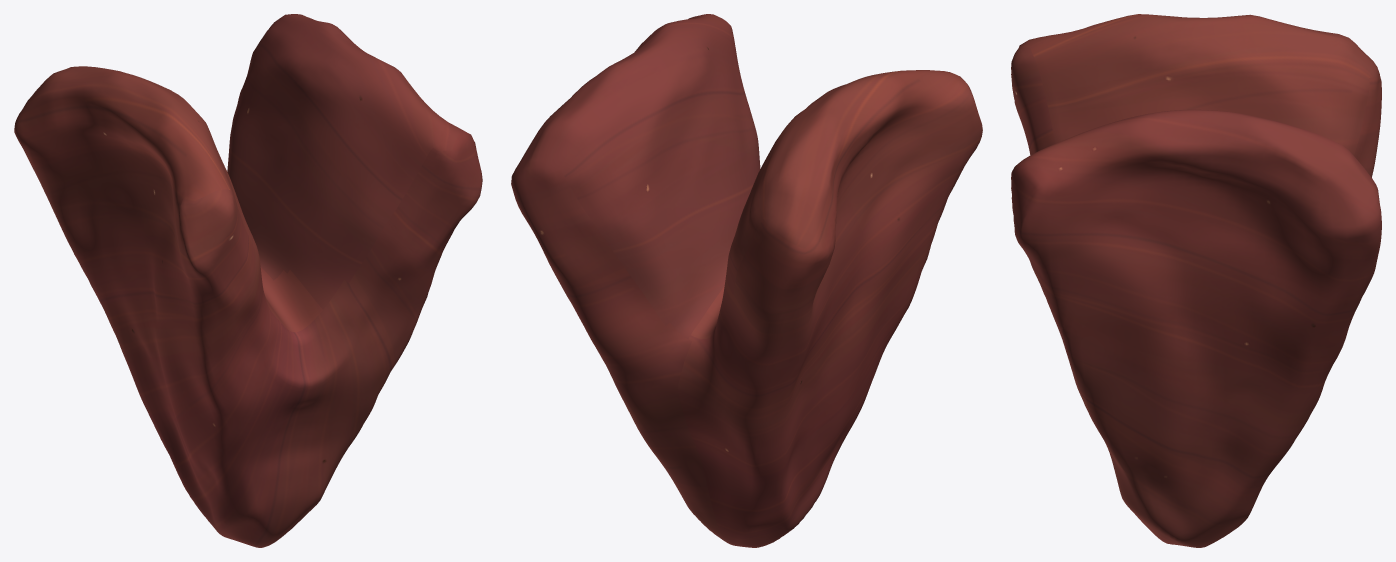
File: Canon_Model_Zone3.fbx
3 renders of one model, left to right at view 1: azimuth 30°, elevation 25°; view 2: azimuth 150°, elevation 25°; view 3: azimuth 270°, elevation 25°, orthographic.
Visible parts, largest first — view 1: Group25177; view 2: Group25177; view 3: Group25177.
Boxes of the visible parts, x1,y1,x2,y2 form: Group25177: [14, 14, 482, 547]; Group25177: [511, 14, 982, 547]; Group25177: [1011, 14, 1381, 547].
Bounding box in the file's own units: 538 × 786 × 552.
